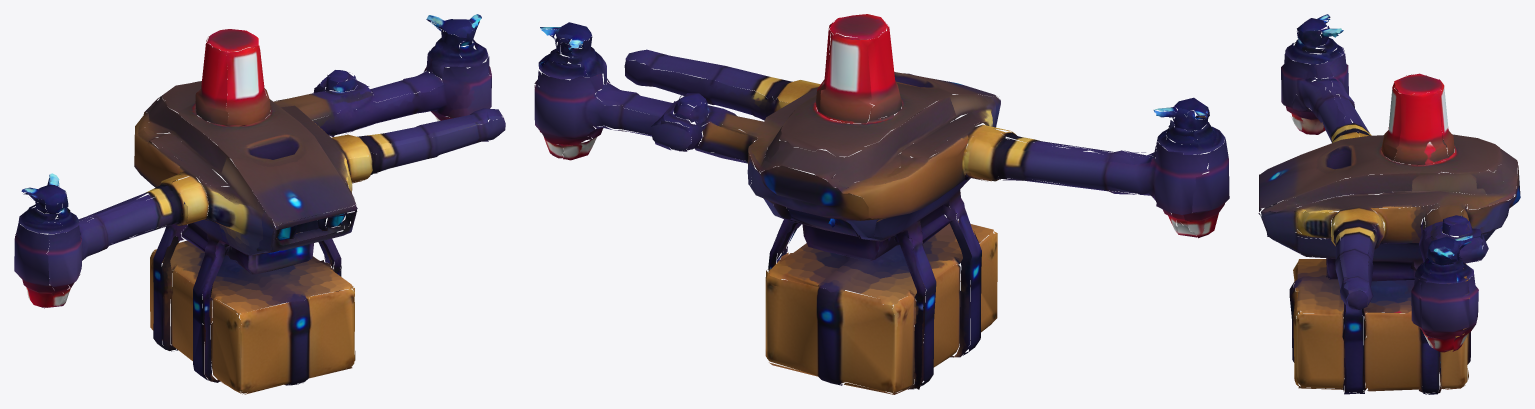
File: h3-drone.glb
The picture shows the model from 3 angles, left to right: view 1: azimuth 30°, elevation 25°; view 2: azimuth 150°, elevation 25°; view 3: azimuth 270°, elevation 25°; orthographic projection. The views are drawn at different scales.
Visible parts, largest first — view 1: tmp0d_tnp4t.ply; view 2: tmp0d_tnp4t.ply; view 3: tmp0d_tnp4t.ply.
Part boxes in pixels (left/top/right/bottom): tmp0d_tnp4t.ply: left=14, top=14, right=505, bottom=394; tmp0d_tnp4t.ply: left=534, top=14, right=1229, bottom=394; tmp0d_tnp4t.ply: left=1258, top=14, right=1520, bottom=394.
Bounding box in the file's own units: 2 × 1.07 × 0.8961.
1 material, 1 textured.
